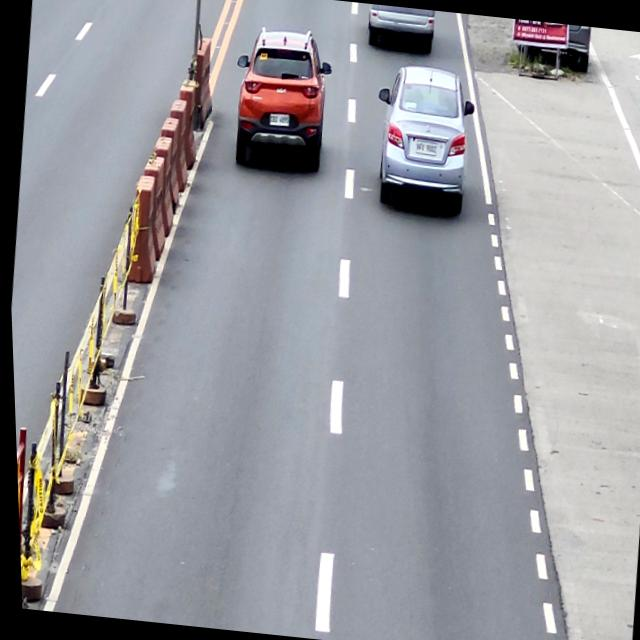Car: (365, 61, 481, 220), (225, 24, 338, 174)
License-Plate: (414, 140, 436, 156), (267, 114, 288, 128)
